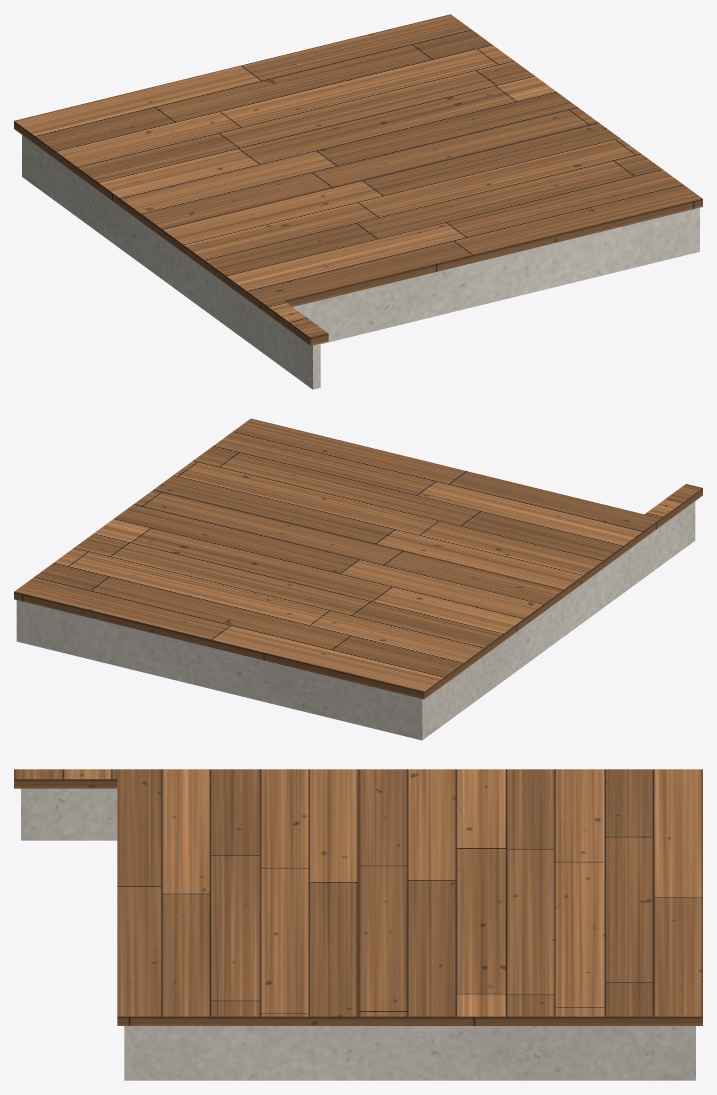
Rendered from floor_wood_u_e0_30_0_0.glb.
The picture shows the model from 3 angles, top to bottom: view 1: azimuth 30°, elevation 25°; view 2: azimuth 150°, elevation 25°; view 3: azimuth 270°, elevation 25°; orthographic projection. The views are drawn at different scales.
Visible parts, largest first — view 1: floor_wood_u_e0_30_0_0_floor, floor_wood_u_e0_30_0_0_plaster; view 2: floor_wood_u_e0_30_0_0_floor, floor_wood_u_e0_30_0_0_plaster; view 3: floor_wood_u_e0_30_0_0_floor, floor_wood_u_e0_30_0_0_plaster.
Part boxes in pixels (x1,y1,x2,y2): floor_wood_u_e0_30_0_0_floor: (14, 14, 702, 345); floor_wood_u_e0_30_0_0_plaster: (22, 135, 699, 389); floor_wood_u_e0_30_0_0_floor: (14, 418, 702, 699); floor_wood_u_e0_30_0_0_plaster: (16, 501, 695, 740); floor_wood_u_e0_30_0_0_floor: (14, 769, 702, 1025); floor_wood_u_e0_30_0_0_plaster: (21, 788, 695, 1080).
Size of the model in its own units: 1.7 by 0.205 by 2.
Materials: 2 (2 with a texture image).
